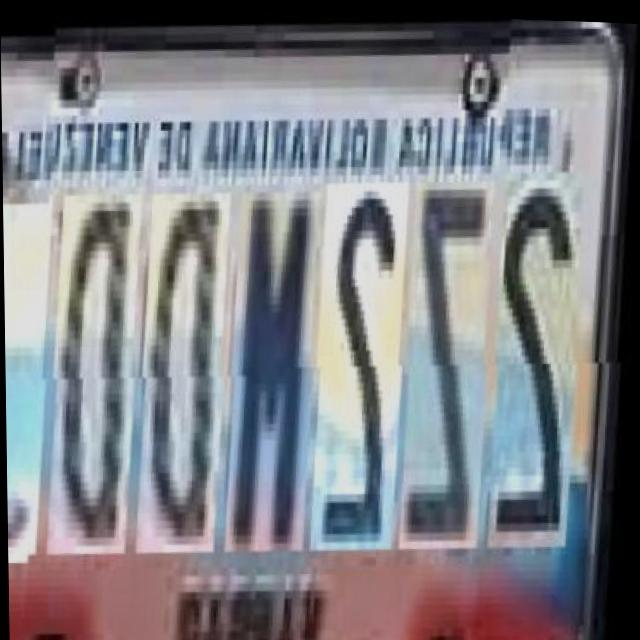2: (307, 174, 416, 549), (485, 172, 591, 555)
d: (134, 184, 238, 550), (45, 185, 149, 551)
j: (2, 186, 59, 551)
m: (223, 183, 327, 549)
z: (397, 173, 501, 548)
